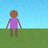person: (6, 10, 21, 37)
